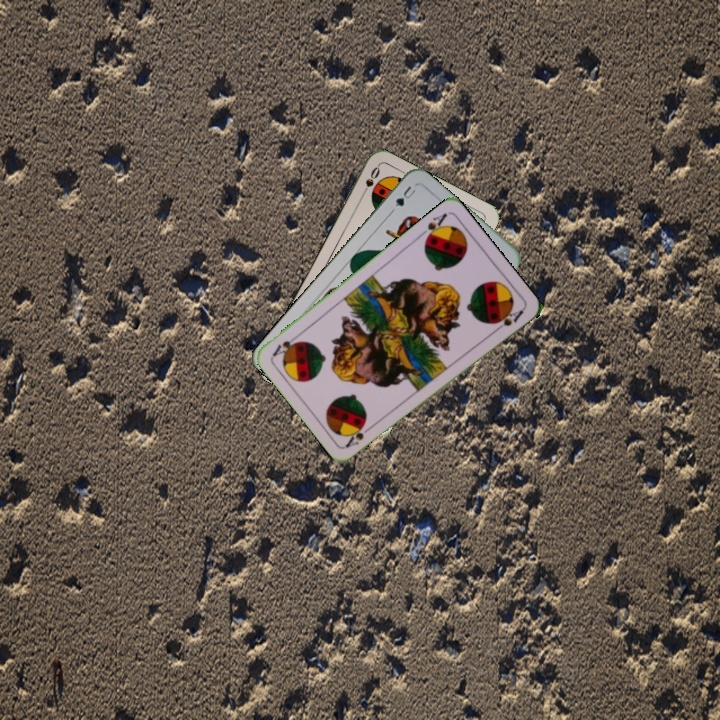GU: (391, 182, 418, 211)
SA: (415, 209, 450, 244), (341, 420, 377, 450)
SO: (357, 162, 383, 200)
